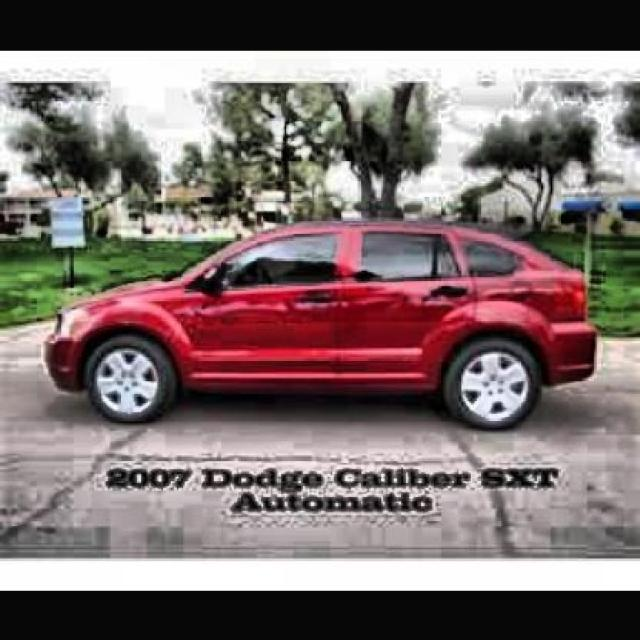red: (15, 222, 640, 407)
